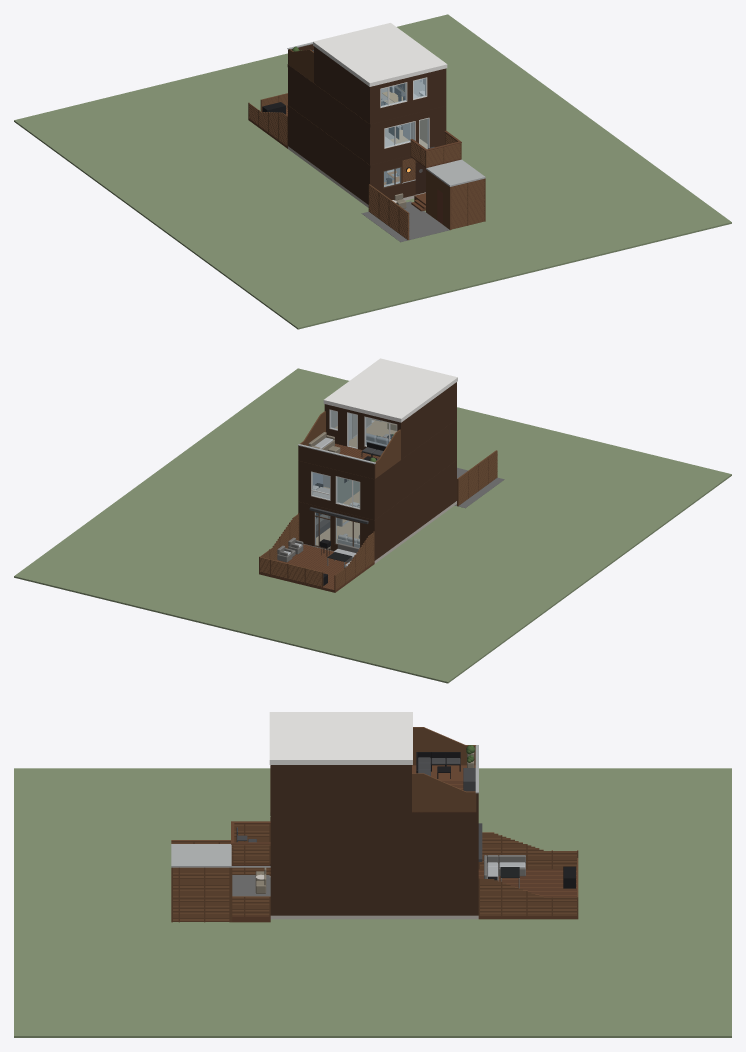
Rendered from huldervegen.gltf.
3 renders of one model, top to bottom at view 1: azimuth 30°, elevation 25°; view 2: azimuth 150°, elevation 25°; view 3: azimuth 270°, elevation 25°, orthographic. The views are drawn at different scales.
Parts seen in each view (by area): view 1: gress, kledning (×6), tak, asfalt, spiler (×2), porteTak, glass; view 2: gress, kledning (×6), tak, glass (×3), spiler; view 3: gress, kledning (×5), tak, spiler (×2), porteTak, grått, asfalt.
Boxes of the visible parts, x1,y1,x2,y2 form: gress: [14, 14, 731, 329]; kledning (×6): [288, 46, 446, 204]; tak: [313, 23, 447, 86]; asfalt: [361, 201, 449, 242]; spiler (×2): [288, 49, 437, 220]; porteTak: [426, 159, 485, 186]; glass: [385, 122, 414, 147]; gress: [14, 368, 731, 683]; kledning (×6): [298, 383, 455, 560]; tak: [323, 358, 457, 422]; glass (×3): [335, 417, 396, 547]; spiler: [375, 429, 400, 478]; gress: [14, 768, 731, 1037]; kledning (×5): [270, 765, 478, 915]; tak: [269, 712, 412, 764]; spiler (×2): [412, 727, 476, 812]; porteTak: [171, 844, 232, 867]; grått: [270, 915, 478, 919]; asfalt: [232, 875, 270, 896].
Bounding box in the file's own units: 30 × 8.6 × 34.
